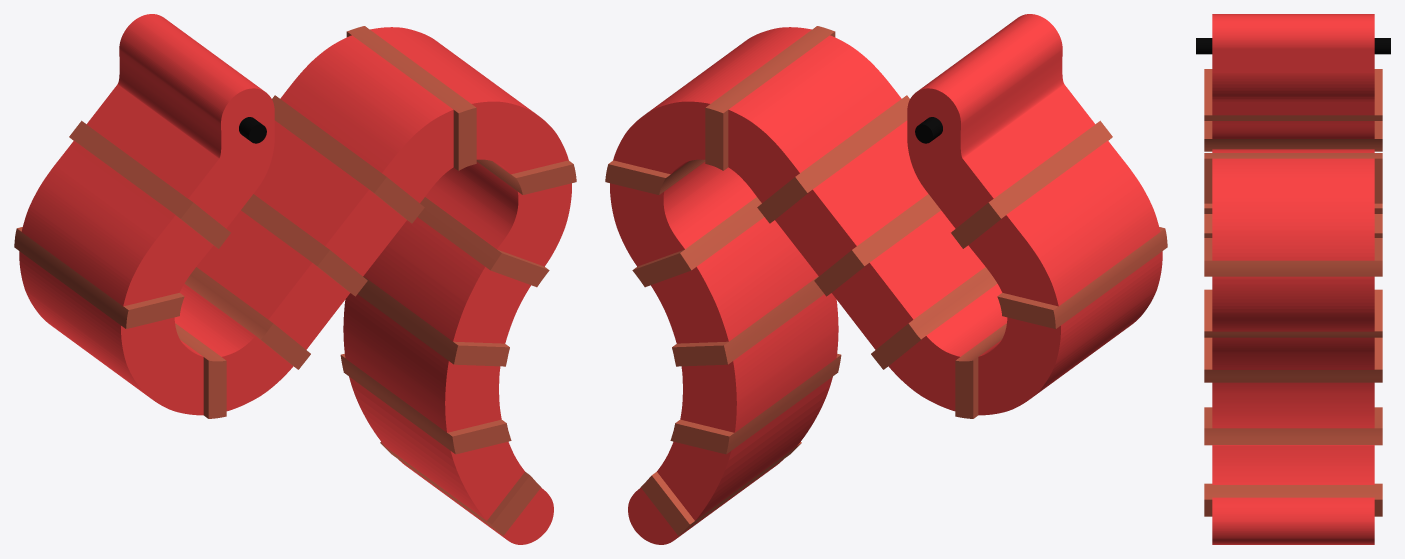
File: U+1FAB1.obj
The picture shows the model from 3 angles, left to right: view 1: azimuth 30°, elevation 25°; view 2: azimuth 150°, elevation 25°; view 3: azimuth 270°, elevation 25°; orthographic projection. The views are drawn at different scales.
Visible parts, largest first — view 1: U+1FAB1_layer00_obj00, U+1FAB1_layer01_obj00; view 2: U+1FAB1_layer00_obj00, U+1FAB1_layer01_obj00; view 3: U+1FAB1_layer00_obj00, U+1FAB1_layer01_obj00, U+1FAB1_layer02_obj00.
Boxes of the visible parts, x1=… form: U+1FAB1_layer00_obj00: x1=19, y1=14, x2=571, y2=544; U+1FAB1_layer01_obj00: x1=14, y1=26, x2=576, y2=535; U+1FAB1_layer00_obj00: x1=610, y1=14, x2=1162, y2=544; U+1FAB1_layer01_obj00: x1=605, y1=26, x2=1167, y2=535; U+1FAB1_layer00_obj00: x1=1212, y1=14, x2=1374, y2=544; U+1FAB1_layer01_obj00: x1=1204, y1=69, x2=1382, y2=516; U+1FAB1_layer02_obj00: x1=1196, y1=38, x2=1390, y2=54.
Bounding box in the file's own units: 0.5122 × 0.5677 × 0.24.
